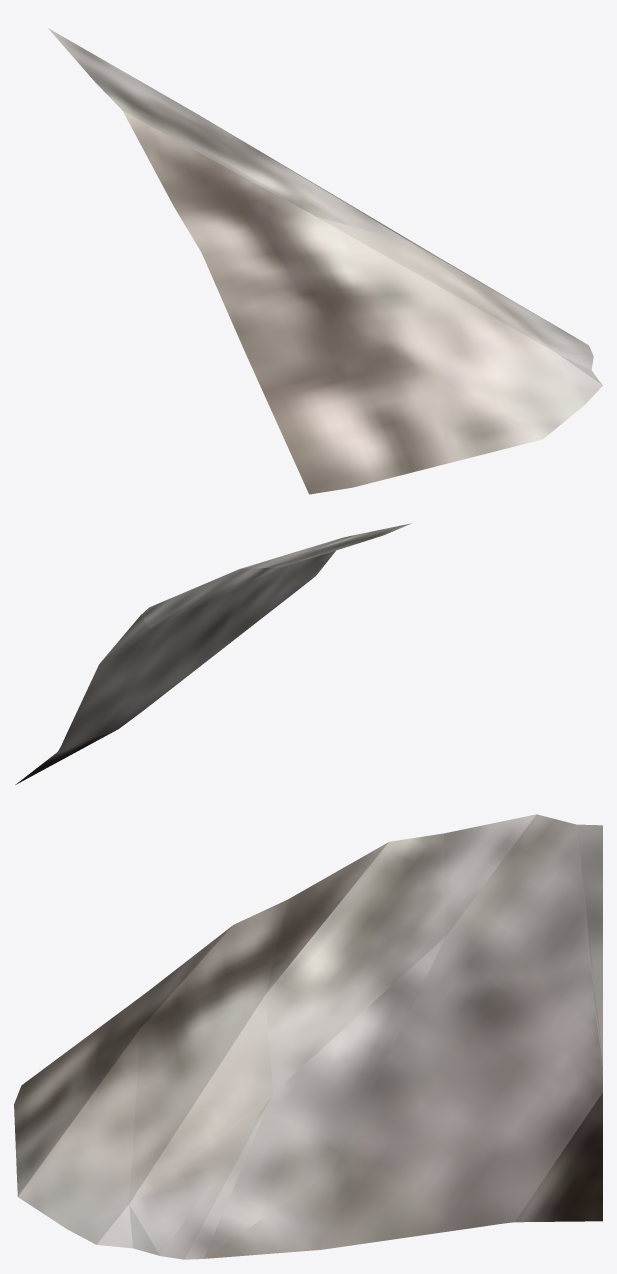
3 views of the same model, one above another, from view 1: azimuth 30°, elevation 25°; view 2: azimuth 150°, elevation 25°; view 3: azimuth 270°, elevation 25° (orthographic). The views are drawn at different scales.
Bounding box in the file's own units: 0.1187 × 0.0861 × 0.1695.
1 material, 1 textured.
